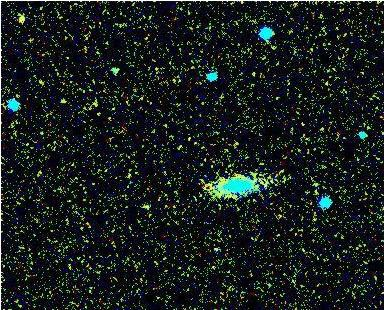star: (6, 3, 36, 33)
